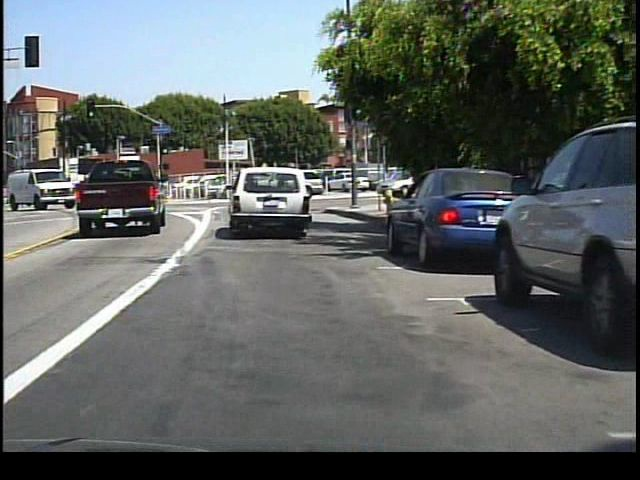person: (347, 168, 363, 199)
